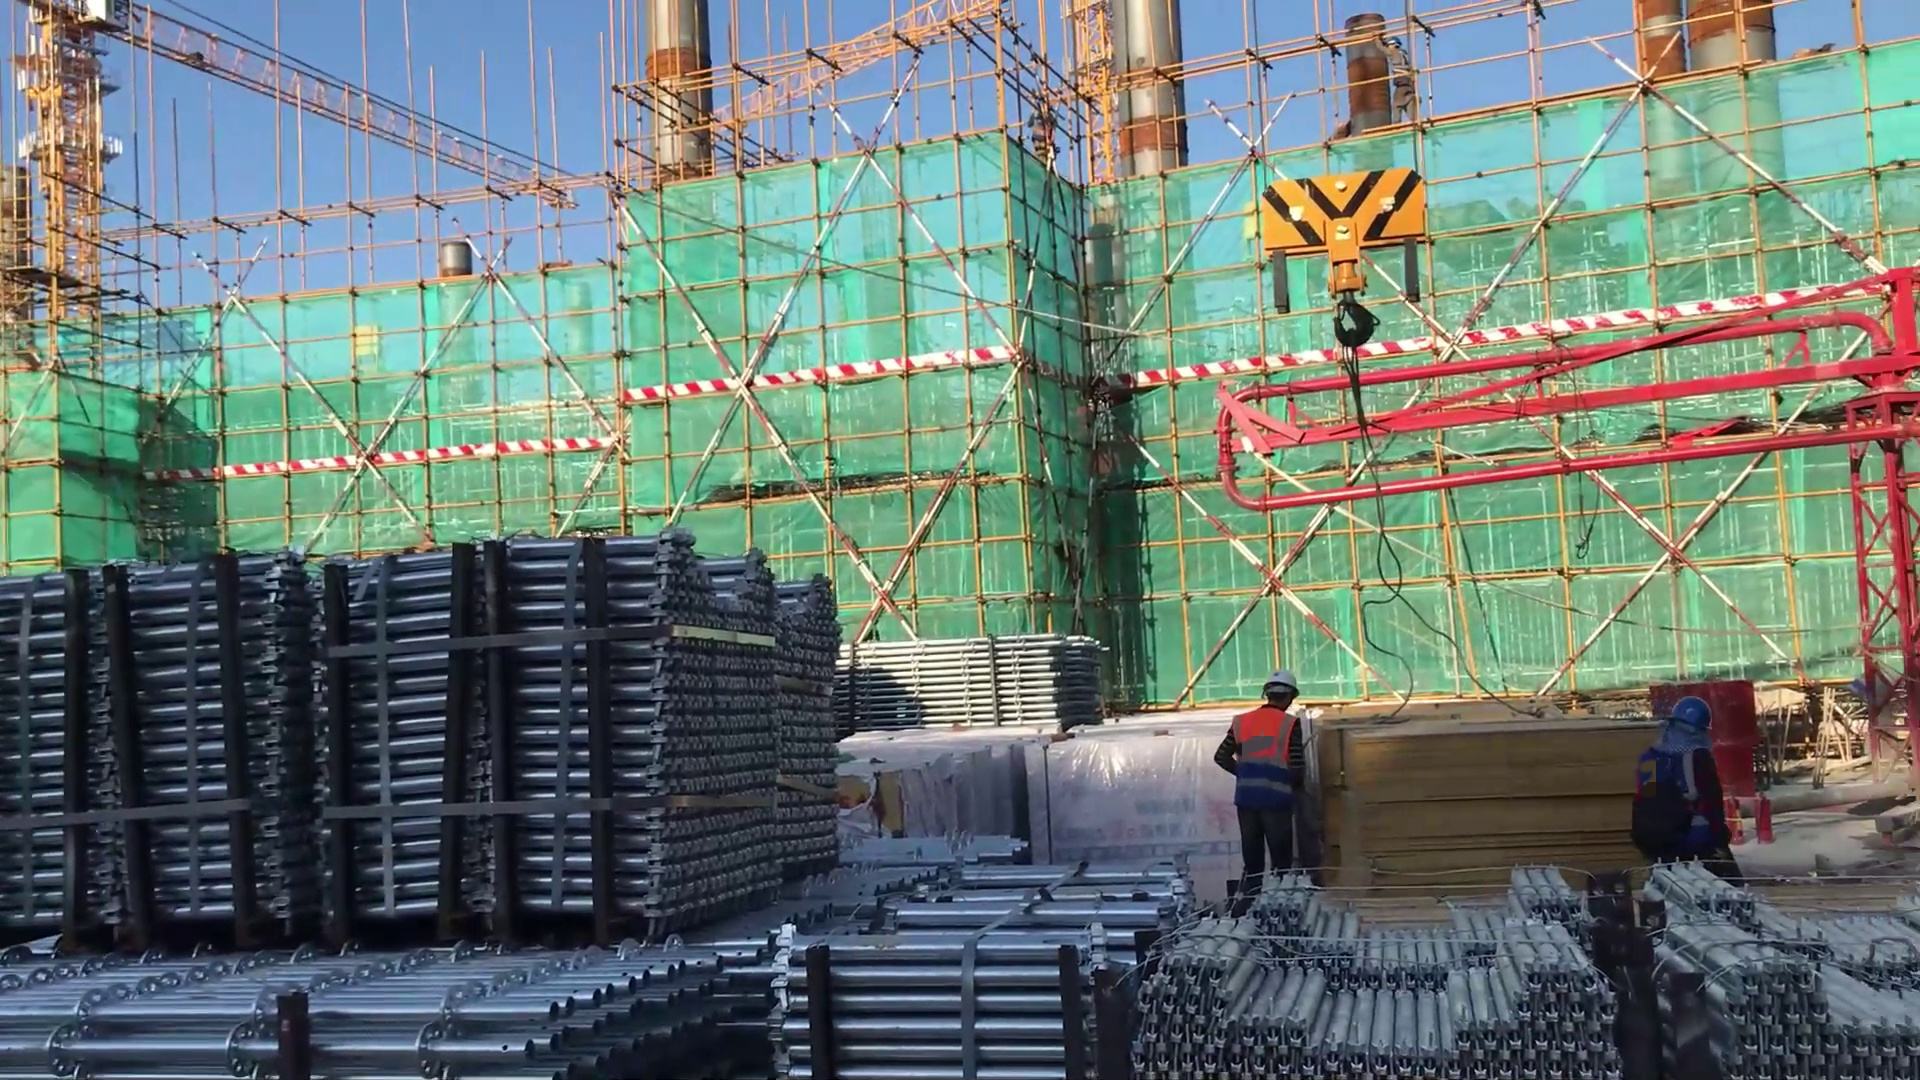board: (1316, 702, 1636, 893)
helmet: (1664, 697, 1712, 741), (1255, 667, 1300, 712), (1384, 29, 1408, 55)
hook: (1238, 170, 1461, 434)
person: (1638, 689, 1751, 911), (1212, 668, 1314, 895), (1377, 21, 1422, 135)
scaffold: (1, 528, 859, 946), (1, 912, 751, 1078), (1130, 849, 1635, 1080), (747, 827, 1188, 1080), (1643, 866, 1920, 1077), (823, 638, 1133, 748)
vest: (1642, 738, 1722, 860), (1230, 701, 1303, 811), (1387, 52, 1414, 90)
